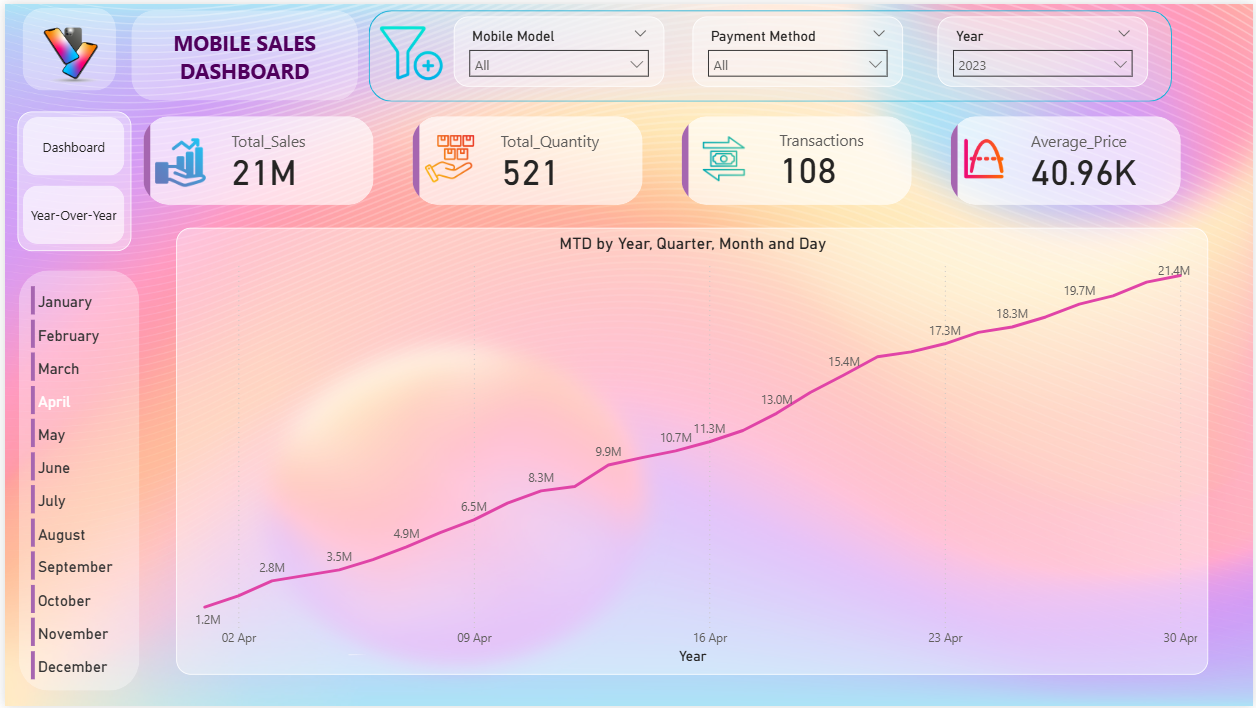

The dashboard page shown, as its layout file describes it:
{"tool":"powerbi","page":{"name":"MTD Report","canvas":[1280,720],"ordinal":1},"visuals":[{"type":"shape","box":[18.3,4.2,95.8,85],"z":0},{"type":"image","box":[16.7,0,100.8,98.3],"z":1000},{"type":"shape","box":[372.5,6.2,823.8,93.8],"z":2000},{"type":"slicer","fields":{"Values":["Sales_Data.Mobile Model"]},"box":[460,13.3,216,72],"z":3000},{"type":"slicer","fields":{"Values":["Sales_Data.Payment Method"]},"box":[705.3,13.3,216,72],"z":4000},{"type":"slicer","fields":{"Values":["Custom_Calender.Date.Variation.Date Hierarchy.Year"]},"box":[956,13.3,216,72],"z":5000},{"type":"image","box":[372.5,1.2,87.5,98.8],"z":6000},{"type":"shape","box":[130,6.2,232.5,92.5],"z":7000},{"type":"textbox","box":[130,20,232.5,68.8],"z":8000},{"type":"lineChart","fields":{"Y":["Sales_Data.MTD"],"Category":["Custom_Calender.Date.Variation.Date Hierarchy.Year","Custom_Calender.Date.Variation.Date Hierarchy.Quarter","Custom_Calender.Date.Variation.Date Hierarchy.Month","Custom_Calender.Date.Variation.Date Hierarchy.Day"]},"box":[175.7,230,1058.6,458.6],"z":9000},{"type":"shape","box":[13.8,272.5,123.8,431.2],"z":10000},{"type":"advancedSlicerVisual","fields":{"Values":["Custom_Calender.Date.Variation.Date Hierarchy.Month"]},"box":[21.2,285,108.8,418.8],"z":11000},{"type":"pageNavigator","box":[12.8,110.3,116.7,143.6],"z":12000},{"type":"cardVisual","fields":{"Data":["Sales_Data.Total_Sales","Sales_Data.Total_Quantity","Sales_Data.Transactions","Sales_Data.Average_Price"]},"box":[137.5,110,1077.5,101.2],"z":13000}]}

Visuals, with their boxes in screenshot pixels (x1, y1, x2, y2), scaled from the page's 1280x720 canvas onto the 1256x708 screenshot:
shape: (left=18, top=4, right=112, bottom=88)
image: (left=16, top=0, right=115, bottom=97)
shape: (left=366, top=6, right=1174, bottom=98)
slicer - Sales_Data.Mobile Model: (left=451, top=13, right=663, bottom=84)
slicer - Sales_Data.Payment Method: (left=692, top=13, right=904, bottom=84)
slicer - Custom_Calender.Date.Variation.Date Hierarchy.Year: (left=938, top=13, right=1150, bottom=84)
image: (left=366, top=1, right=451, bottom=98)
shape: (left=128, top=6, right=356, bottom=97)
textbox: (left=128, top=20, right=356, bottom=87)
lineChart - Sales_Data.MTD x Custom_Calender.Date.Variation.Date Hierarchy.Year: (left=172, top=226, right=1211, bottom=677)
shape: (left=14, top=268, right=135, bottom=692)
advancedSlicerVisual - Custom_Calender.Date.Variation.Date Hierarchy.Month: (left=21, top=280, right=128, bottom=692)
pageNavigator: (left=13, top=108, right=127, bottom=250)
cardVisual - Sales_Data.Total_Sales x Sales_Data.Total_Quantity: (left=135, top=108, right=1192, bottom=208)
